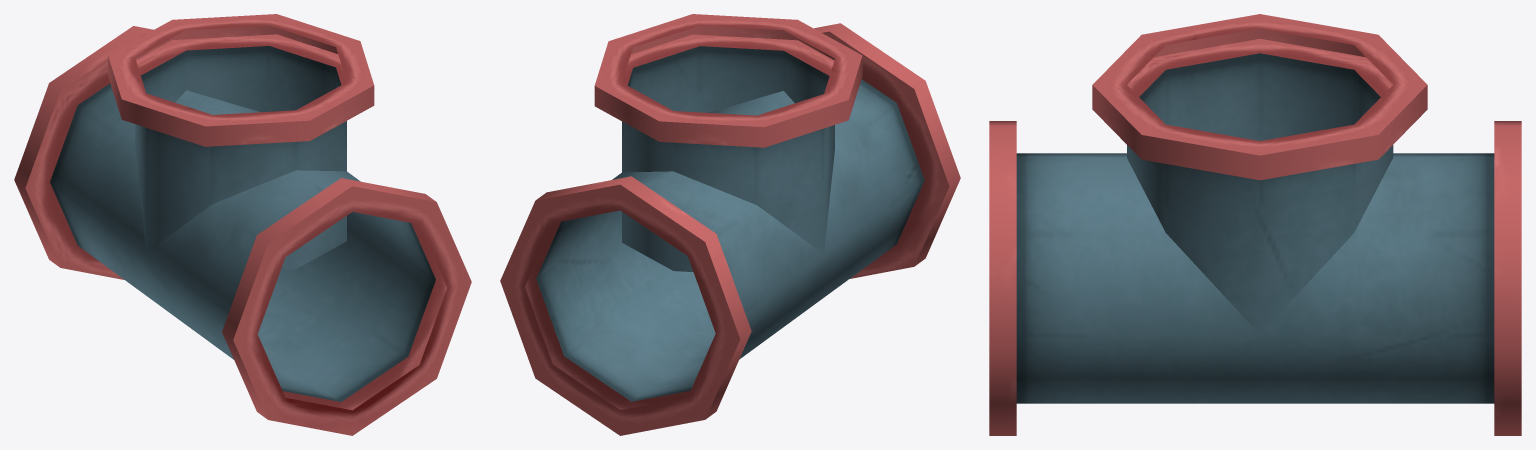
Rendered from Pipe_connection.fbx.
3 views of the same model, side by side, from view 1: azimuth 30°, elevation 25°; view 2: azimuth 150°, elevation 25°; view 3: azimuth 270°, elevation 25° (orthographic). The views are drawn at different scales.
Visible parts, largest first — view 1: Pipe_1m.002; view 2: Pipe_1m.002; view 3: Pipe_1m.002.
Part boxes in pixels (x1,y1,x2,y2): Pipe_1m.002: (14,14,471,435); Pipe_1m.002: (500,14,960,435); Pipe_1m.002: (989,14,1521,435).
Bounding box in the file's own units: 126 × 143 × 200.
